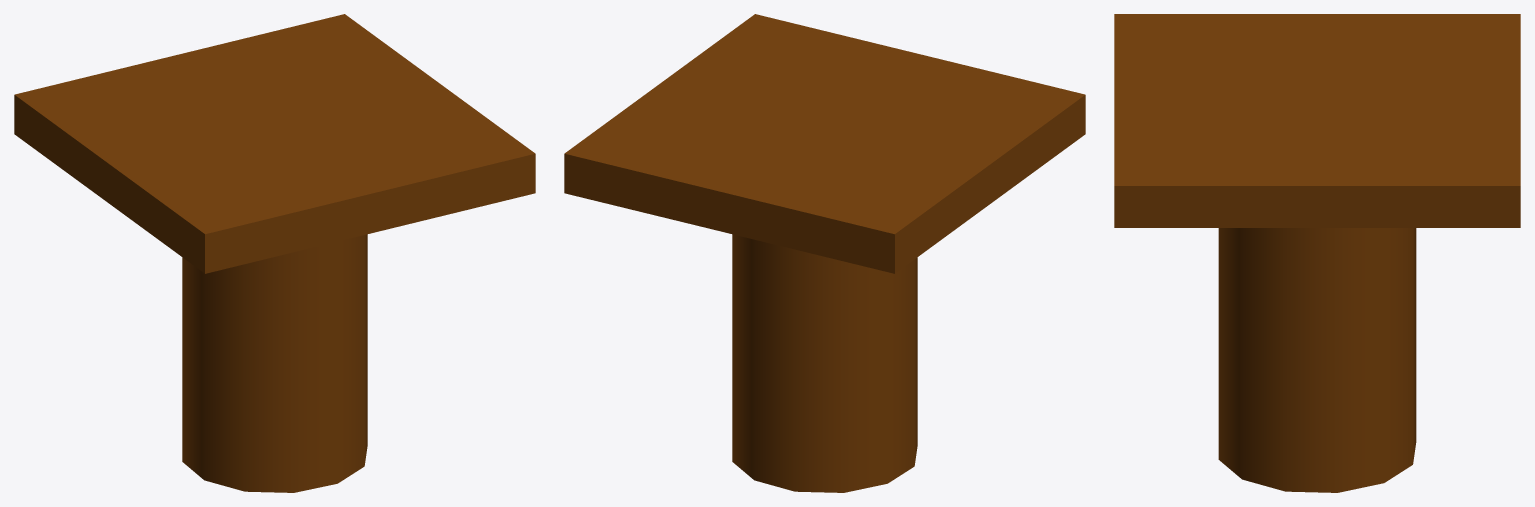
Rendered from piston.fbx.
The picture shows the model from 3 angles, left to right: view 1: azimuth 30°, elevation 25°; view 2: azimuth 150°, elevation 25°; view 3: azimuth 270°, elevation 25°; orthographic projection. The views are drawn at different scales.
Visible parts, largest first — view 1: Cube; view 2: Cube; view 3: Cube.
Boxes of the visible parts, x1,y1,x2,y2 form: Cube: (14,14,535,492); Cube: (564,14,1085,492); Cube: (1114,14,1520,492).
Bounding box in the file's own units: 200 × 191 × 200.
